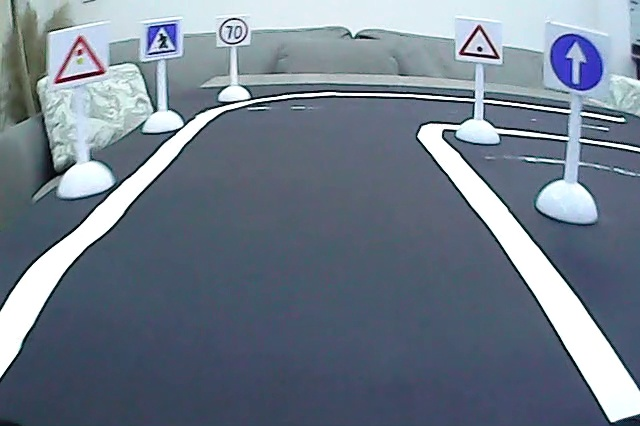green light: (458, 22, 501, 63)
pedestrian crossing: (143, 21, 180, 58)
red light: (55, 31, 107, 85)
speed limit 70: (219, 16, 250, 47)
